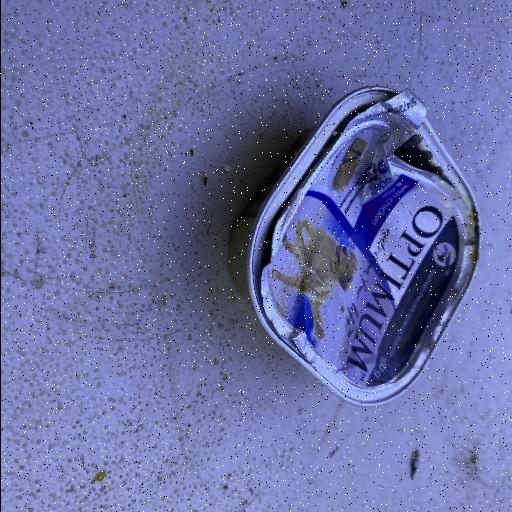Metal: (228, 82, 482, 408)
